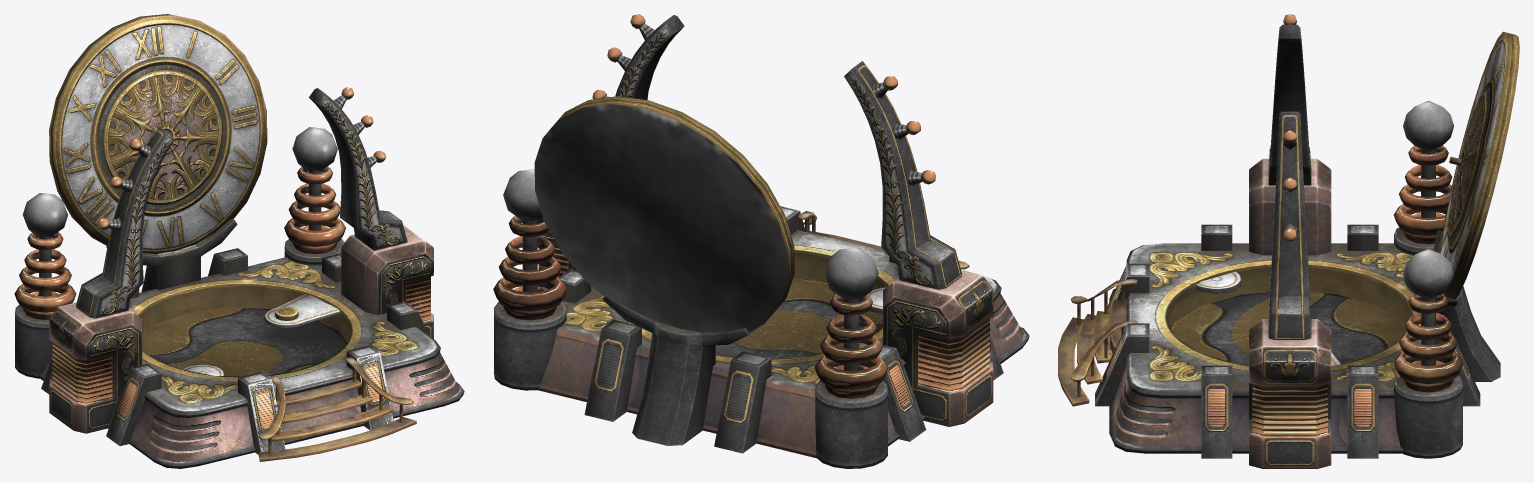
File: time_portal_-_steampunk.glb
3 views of the same model, side by side, from view 1: azimuth 30°, elevation 25°; view 2: azimuth 150°, elevation 25°; view 3: azimuth 270°, elevation 25° (orthographic). The views are drawn at different scales.
Visible parts, largest first — view 1: Object_2; view 2: Object_2; view 3: Object_2.
Part boxes in pixels (x1=…): Object_2: x1=14, y1=14, x2=464, y2=468; Object_2: x1=493, y1=14, x2=1029, y2=468; Object_2: x1=1058, y1=14, x2=1519, y2=468.
Size of the model in its own units: 9.12 by 7 by 9.
Materials: 1 (1 with a texture image).
